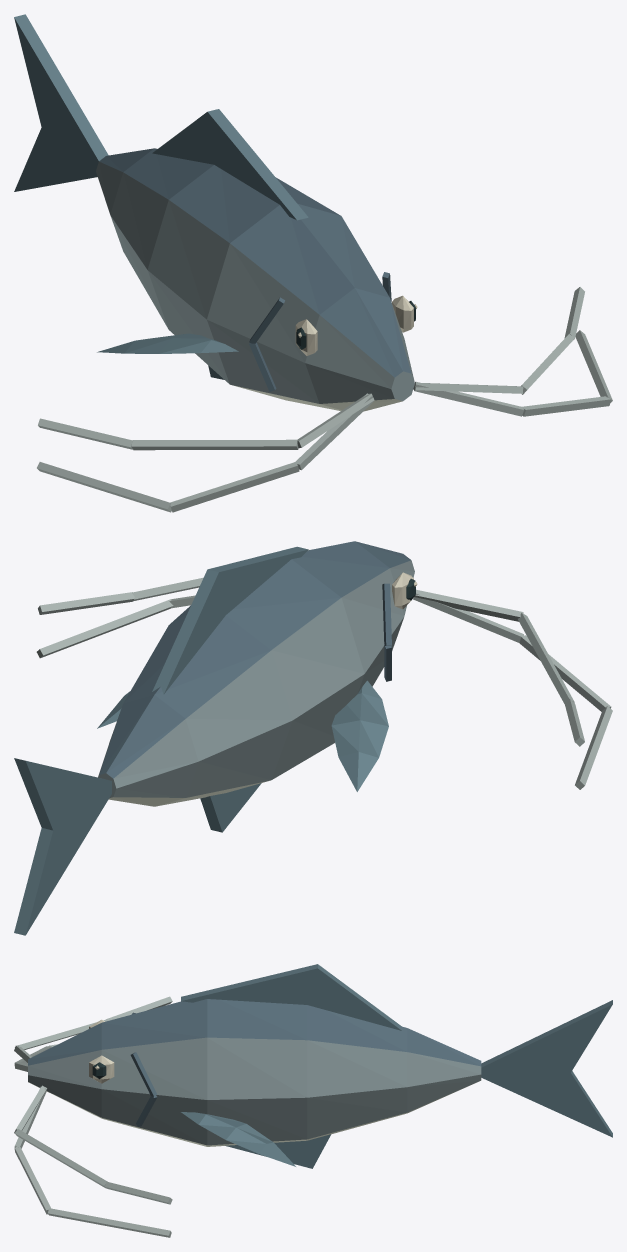
Rendered from fish_rainbarbel.glb.
The picture shows the model from 3 angles, top to bottom: view 1: azimuth 30°, elevation 25°; view 2: azimuth 150°, elevation 25°; view 3: azimuth 270°, elevation 25°; orthographic projection. The views are drawn at different scales.
Parts seen in each view (by area): view 1: fish; view 2: fish; view 3: fish.
Part boxes in pixels (left/top/right/bottom): fish: left=14, top=14, right=612, bottom=512; fish: left=14, top=541, right=612, bottom=935; fish: left=14, top=964, right=612, bottom=1237.
Size of the model in its own units: 0.6603 by 0.3025 by 0.8184.
